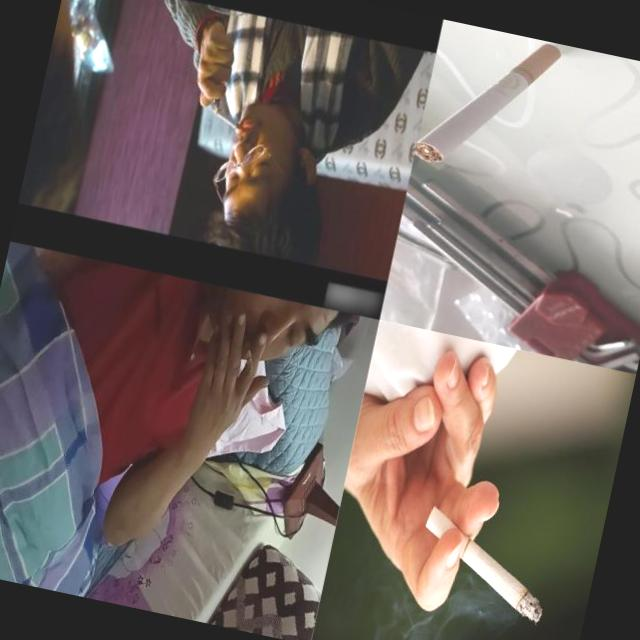smoke: (412, 21, 566, 186), (405, 498, 560, 626), (208, 104, 248, 138), (238, 339, 258, 375)
